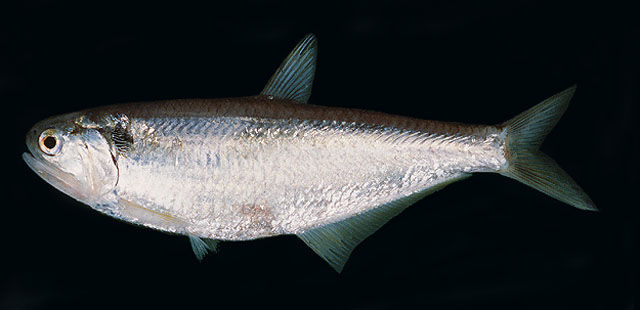fish: (22, 34, 601, 275)
